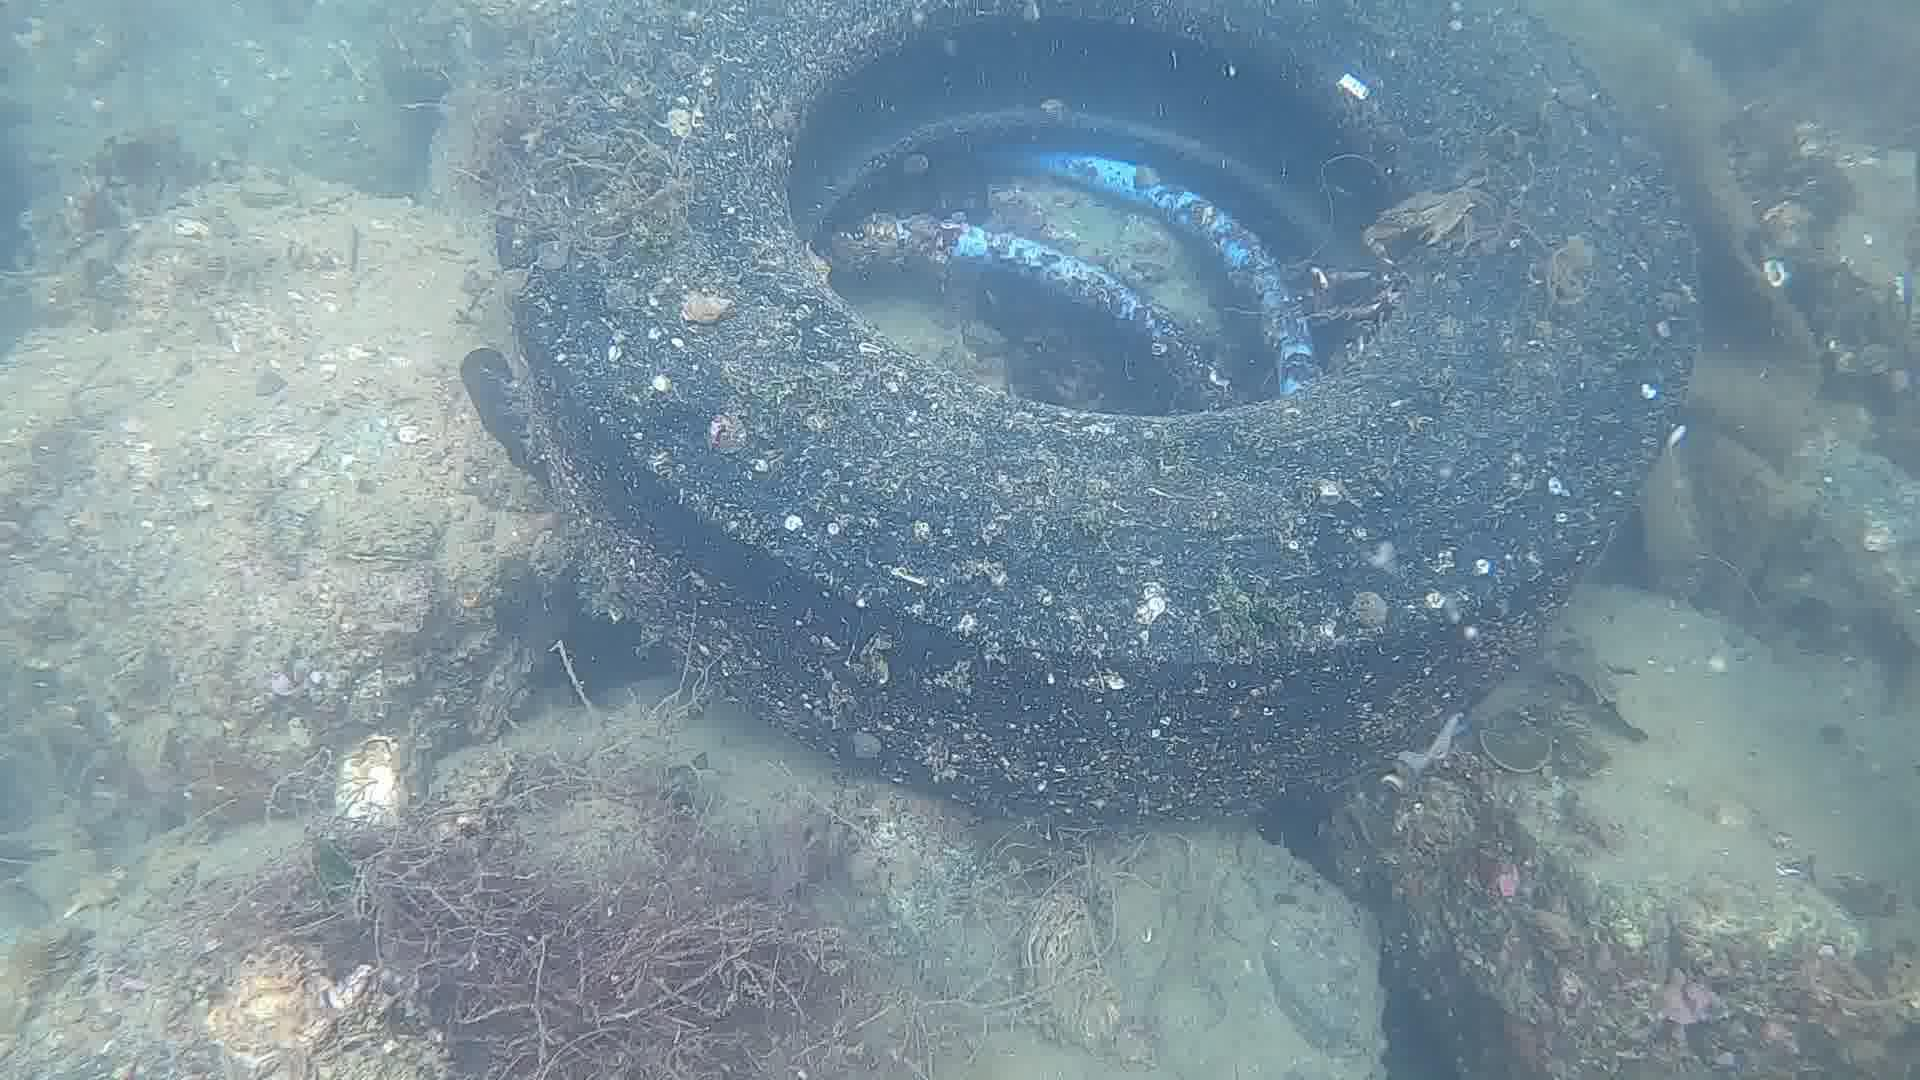tire: (458, 4, 1705, 822)
